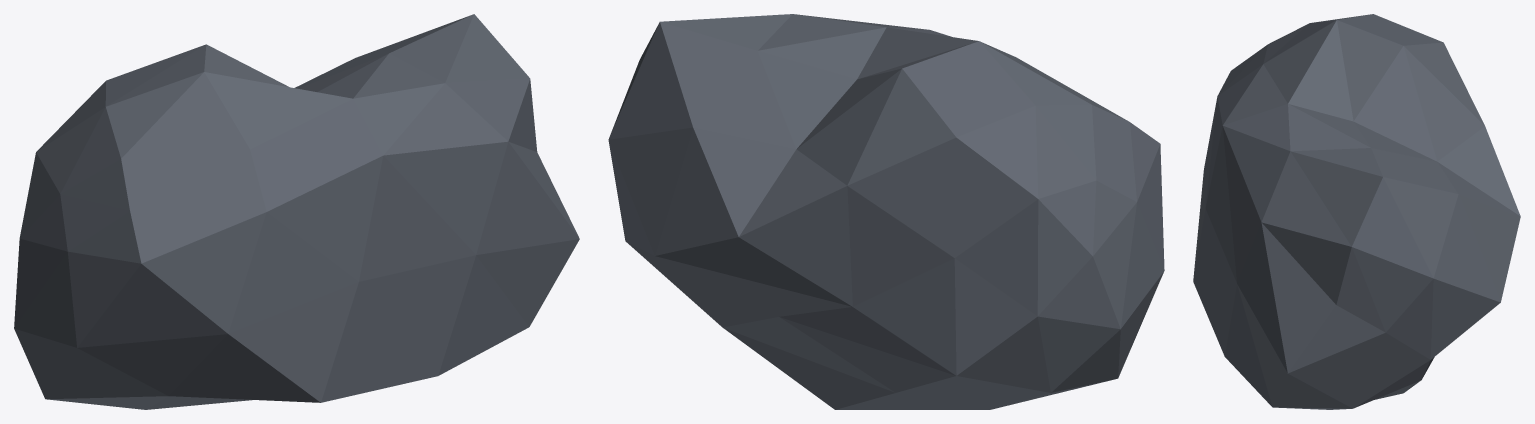
Rendered from Rock_1.fbx.
3 renders of one model, left to right at view 1: azimuth 30°, elevation 25°; view 2: azimuth 150°, elevation 25°; view 3: azimuth 270°, elevation 25°, orthographic. The views are drawn at different scales.
Parts seen in each view (by area): view 1: Rock_1; view 2: Rock_1; view 3: Rock_1.
Part boxes in pixels (<box>): Rock_1: <box>14,14,579,409</box>; Rock_1: <box>608,14,1164,409</box>; Rock_1: <box>1193,14,1520,409</box>.
Size of the model in its own units: 74.93 by 51.66 by 46.9.
